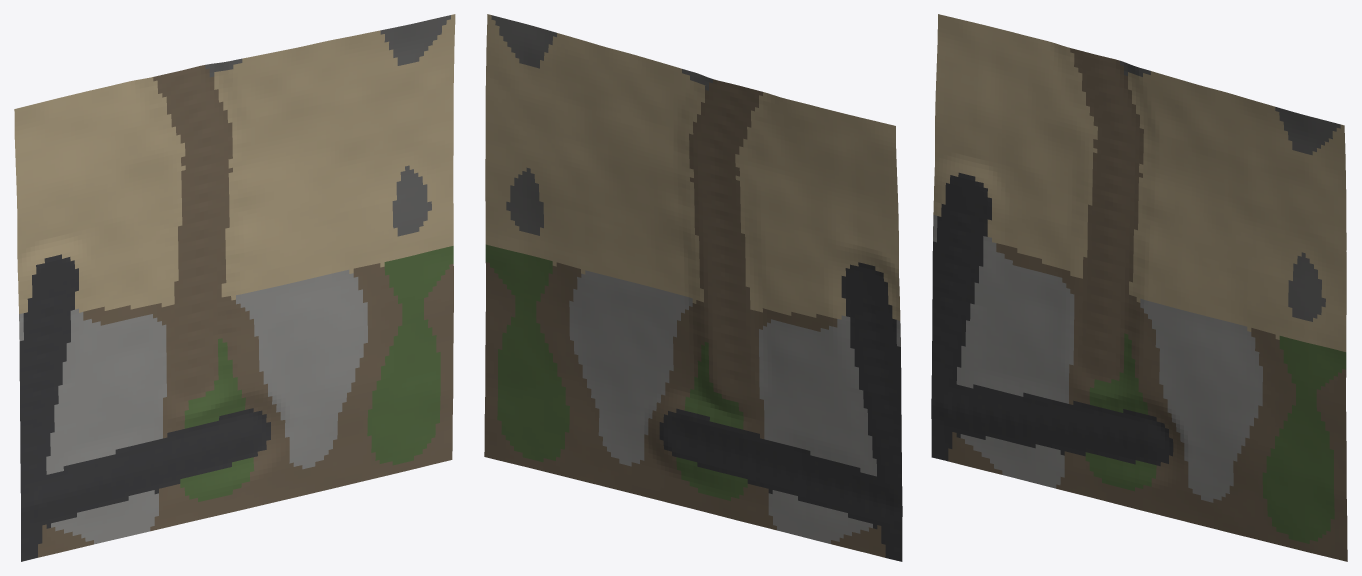
File: SARM_SAR_Terrain_05_02.glb
3 renders of one model, left to right at view 1: azimuth 30°, elevation 25°; view 2: azimuth 150°, elevation 25°; view 3: azimuth 330°, elevation 25°, orthographic. The views are drawn at different scales.
Visible parts, largest first — view 1: SAR_Terrain_05_02.001; view 2: SAR_Terrain_05_02.001; view 3: SAR_Terrain_05_02.001.
Boxes of the visible parts, bbox=[...] form: SAR_Terrain_05_02.001: bbox=[14, 14, 455, 561]; SAR_Terrain_05_02.001: bbox=[484, 14, 902, 561]; SAR_Terrain_05_02.001: bbox=[931, 14, 1347, 561].
Bounding box in the file's own units: 50 × 50 × 2.64.
